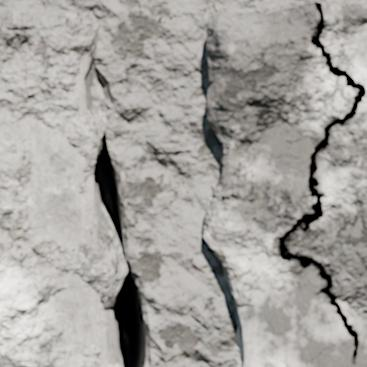brick: (204, 3, 366, 366), (0, 7, 122, 366), (321, 4, 366, 86)
crack: (273, 2, 366, 364), (92, 133, 150, 366), (93, 66, 106, 101)
